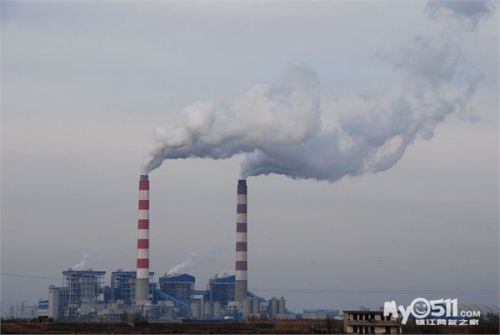dust: (229, 87, 385, 191), (132, 84, 257, 186)
